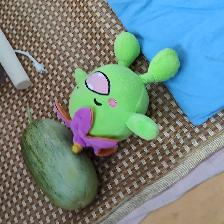gua: (22, 124, 82, 199)
